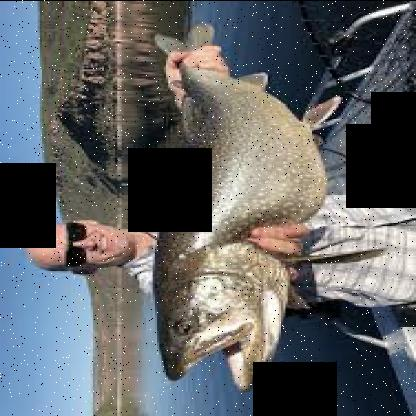fish: (142, 25, 338, 392)
